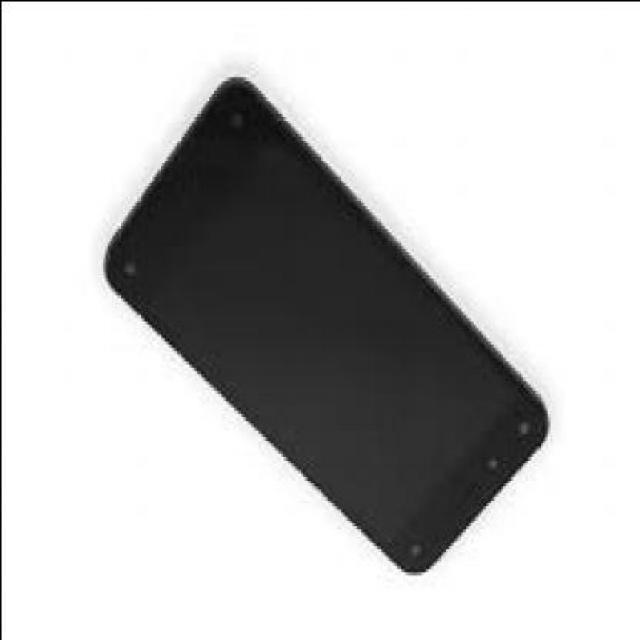fake: (89, 70, 551, 587)
